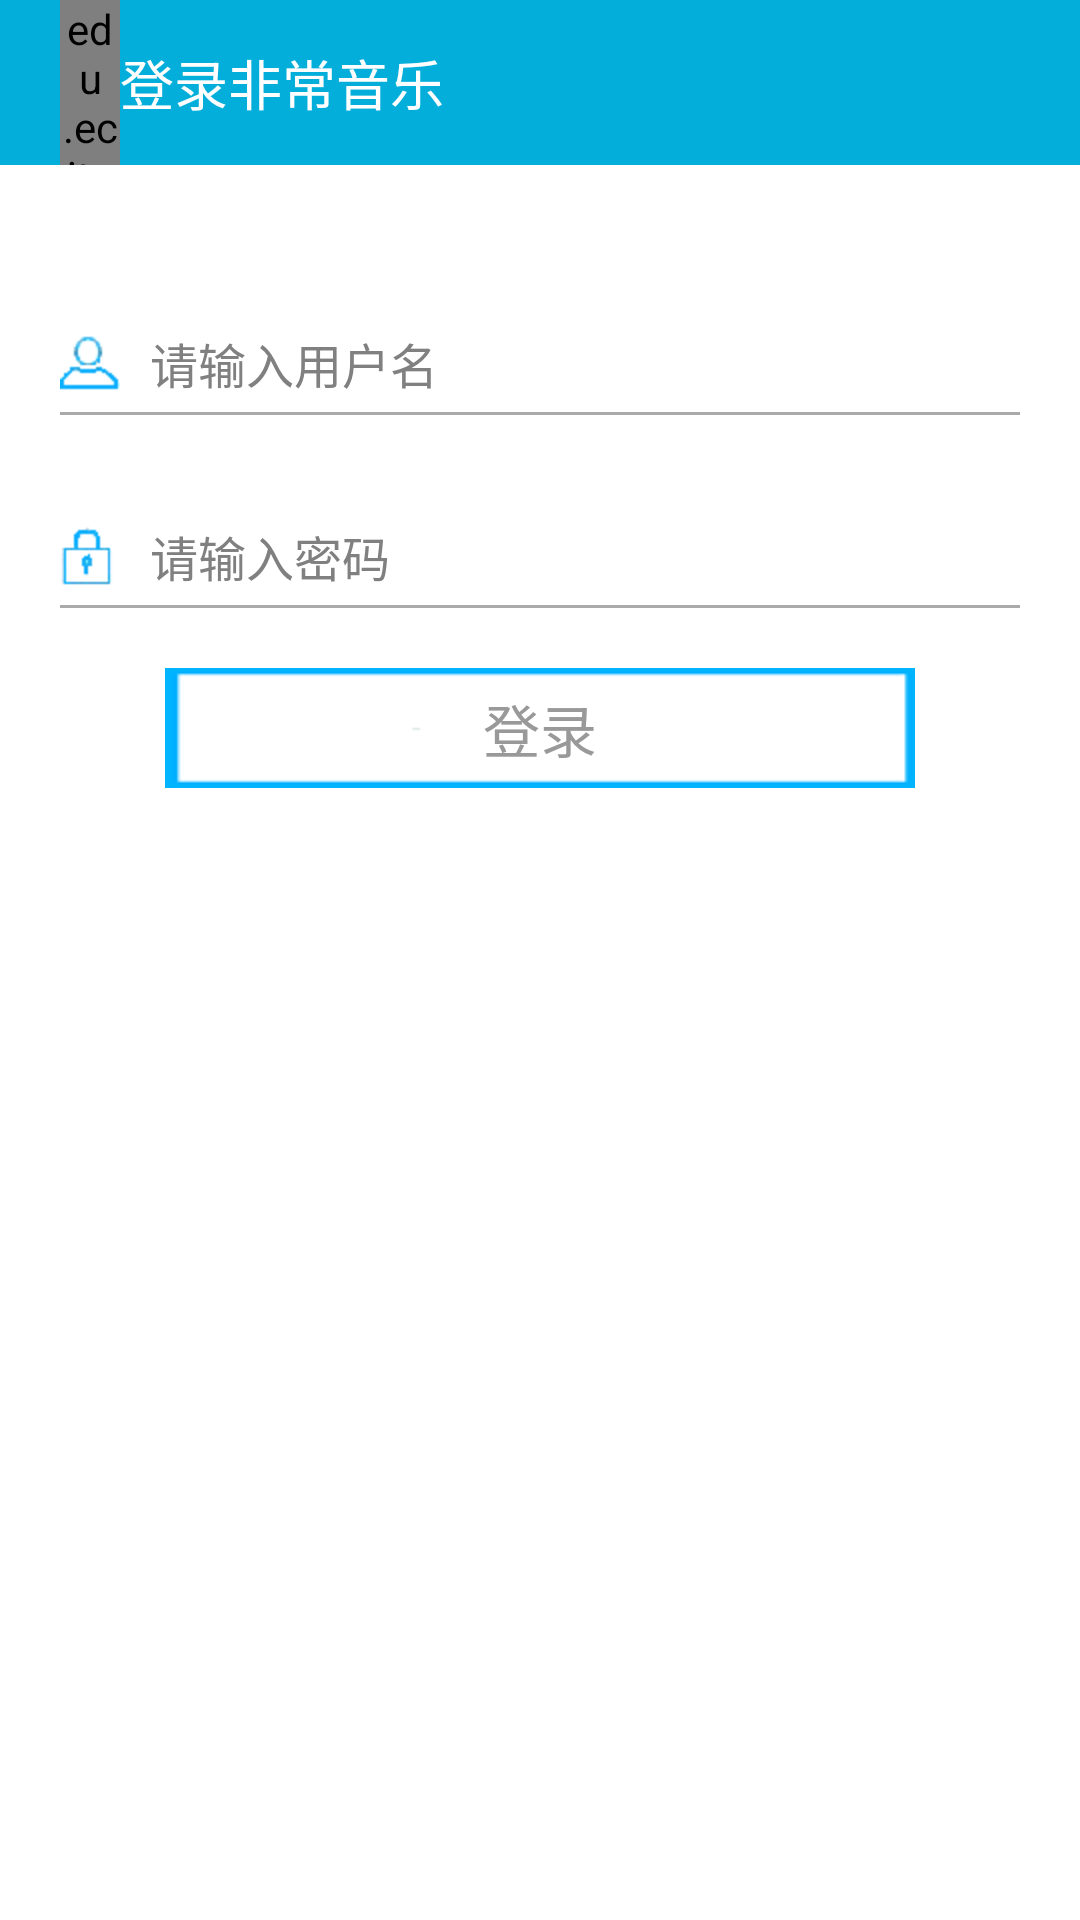

Where icons sit on this 1080 x 1920 app screen, as (x1, y1, x2, y2):
login password: (62, 528, 111, 585)
login username: (60, 336, 120, 390)
